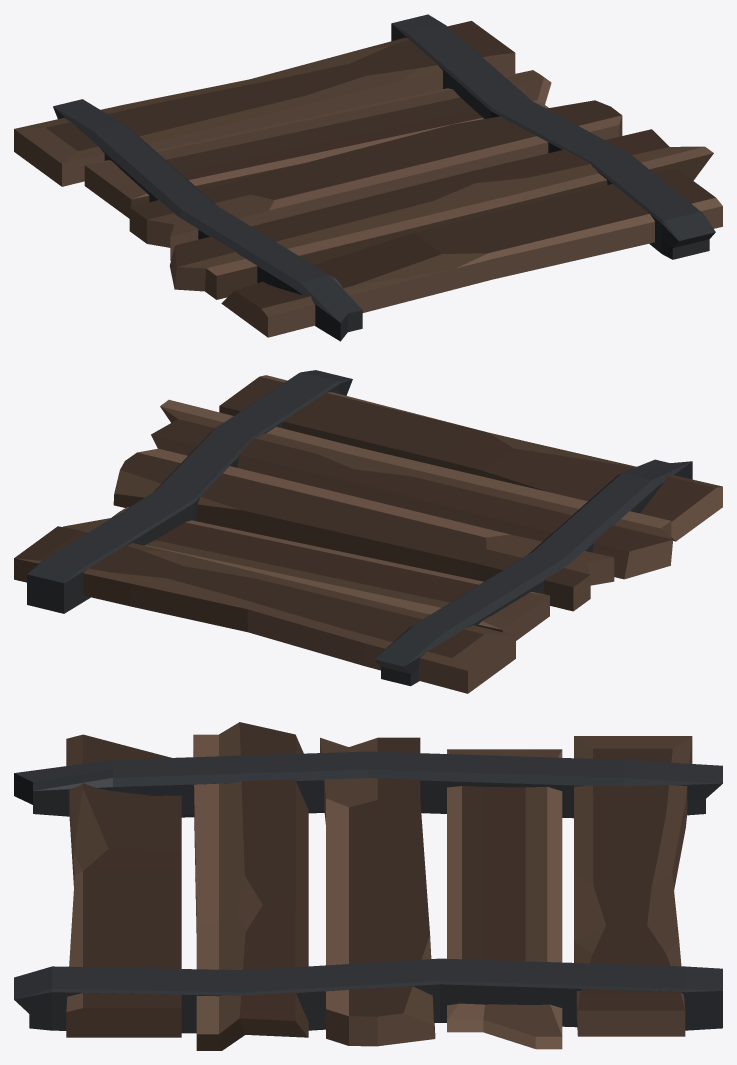
Rendered from Prank.fbx.
The picture shows the model from 3 angles, top to bottom: view 1: azimuth 30°, elevation 25°; view 2: azimuth 150°, elevation 25°; view 3: azimuth 270°, elevation 25°; orthographic projection. The views are drawn at different scales.
Parts seen in each view (by area): view 1: Cube, Cube.002, Cube.001; view 2: Cube, Cube.002, Cube.001; view 3: Cube, Cube.002, Cube.001.
Part boxes in pixels (left/top/right/bottom): Cube: left=14, top=21, right=722, bottom=337; Cube.002: left=391, top=14, right=715, bottom=259; Cube.001: left=53, top=99, right=362, bottom=341; Cube: left=14, top=375, right=722, bottom=693; Cube.002: left=27, top=370, right=352, bottom=613; Cube.001: left=374, top=459, right=692, bottom=686; Cube: left=66, top=722, right=692, bottom=1050; Cube.002: left=14, top=958, right=722, bottom=1033; Cube.001: left=14, top=751, right=722, bottom=818.
Bounding box in the file's own units: 837 × 56.38 × 803.
